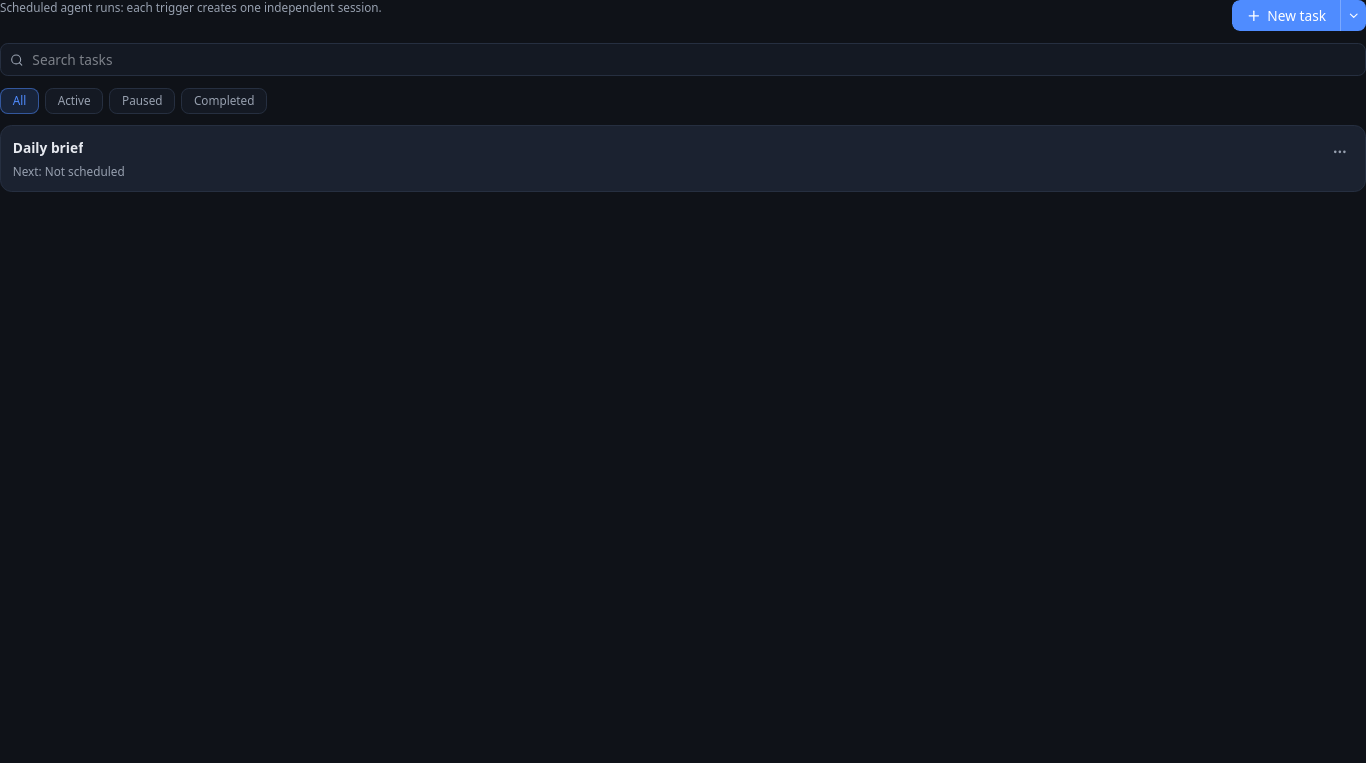
Test: AutomationsView › keeps a save failure inside the editor it came from
This screenshot has width=1366, height=763.
Click the text "Daily brief": (48, 148) [13,138,84,158]
(page scrolled)
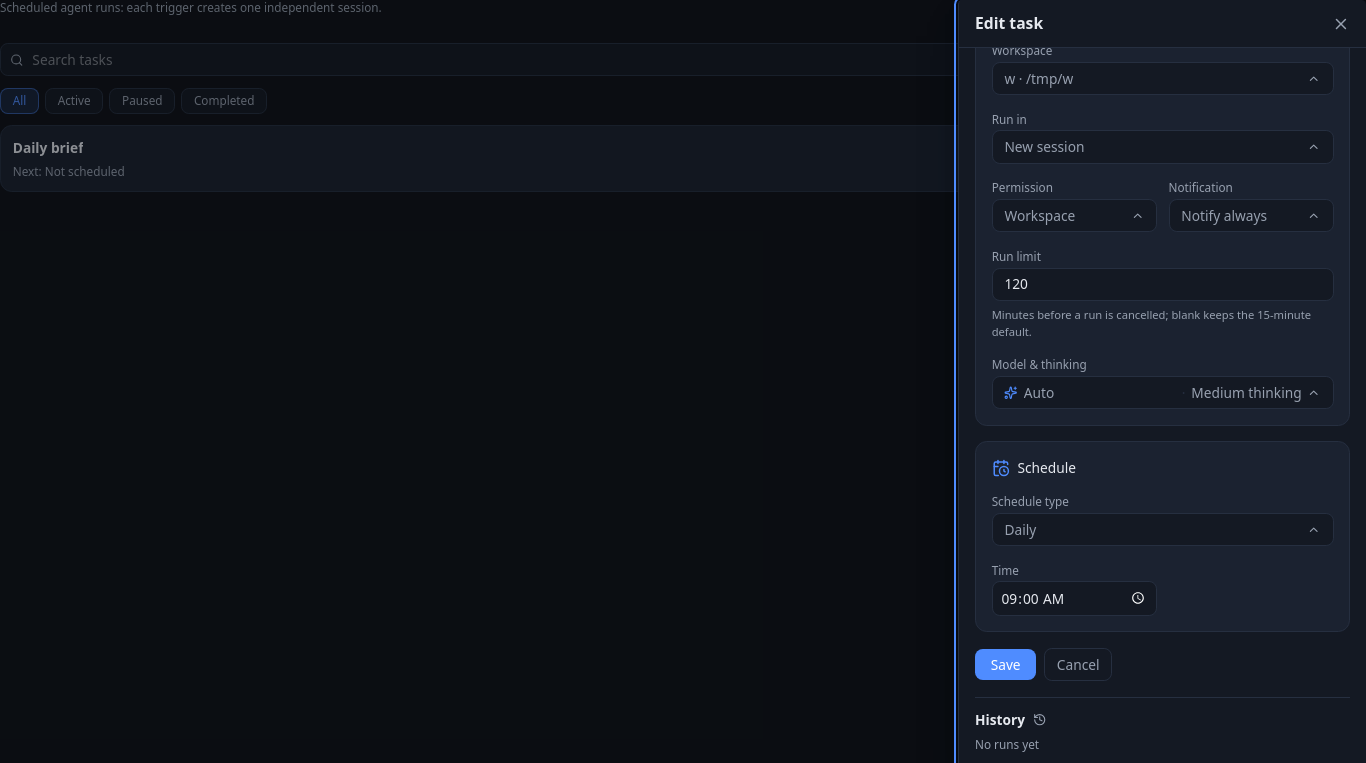
Click the button "Save": (1006, 665) [975,649,1036,680]
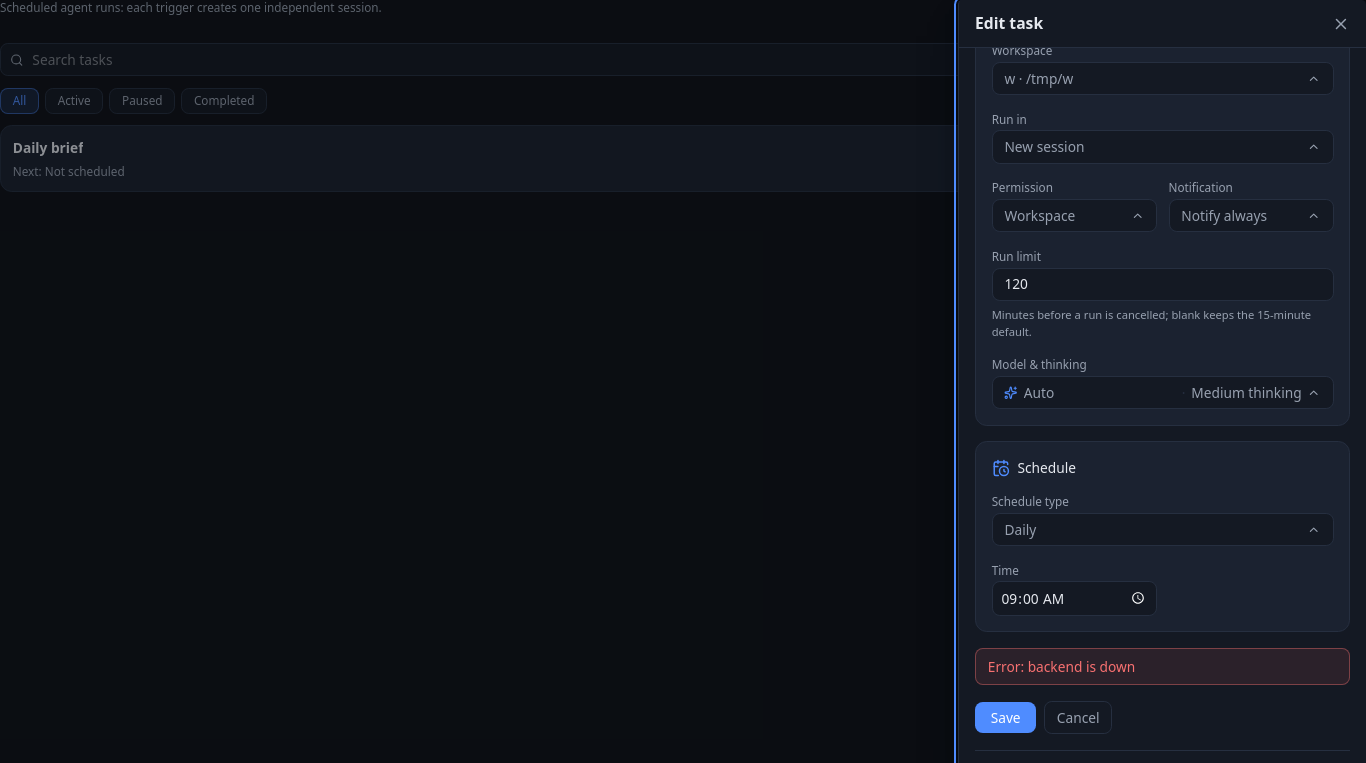
Check: the text "Error: backend is down" is shown, box [975,648,1350,685]
Click the button "Cancel": (1078, 718) [1044,701,1112,734]
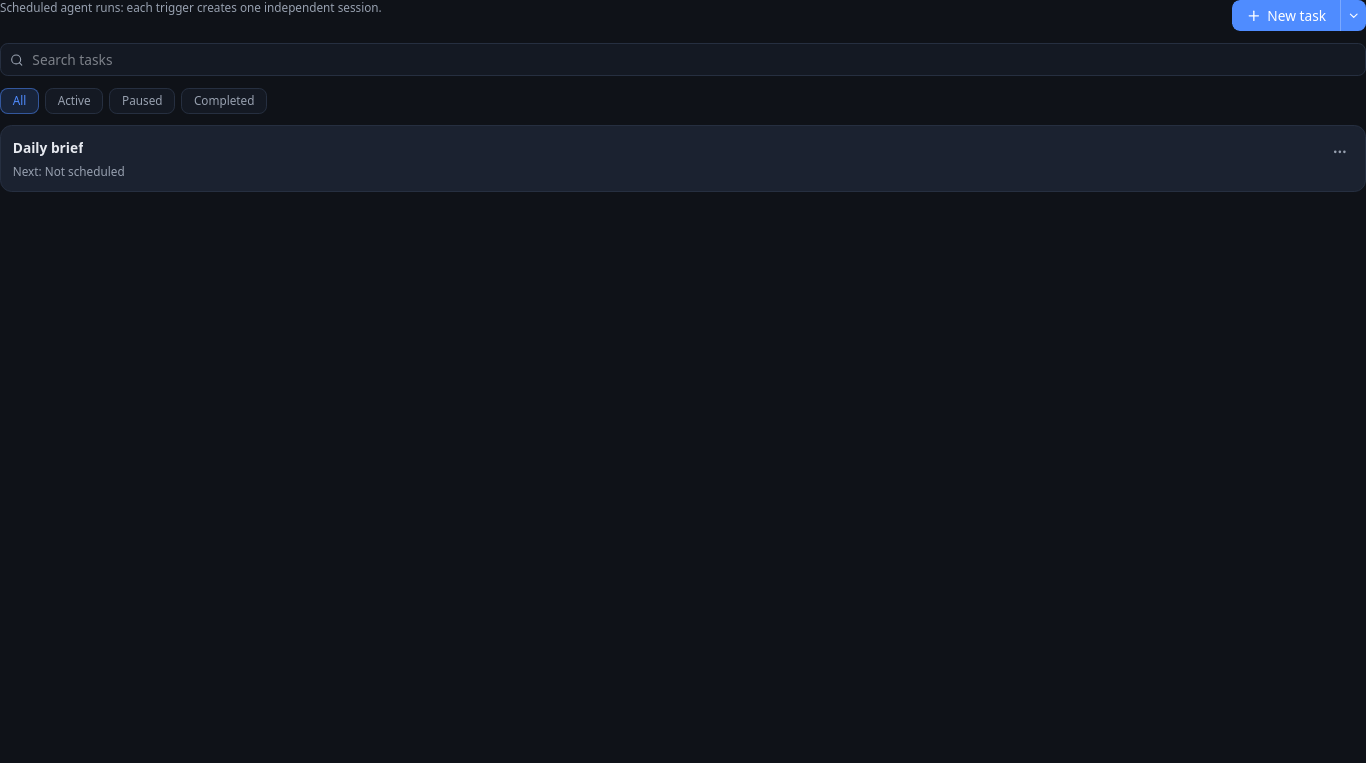
Check: the text "Error: backend is down" is gone
